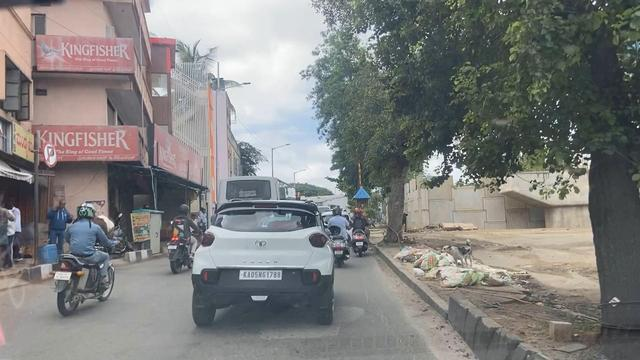LMV: (201, 206, 327, 328), (61, 203, 111, 321)
